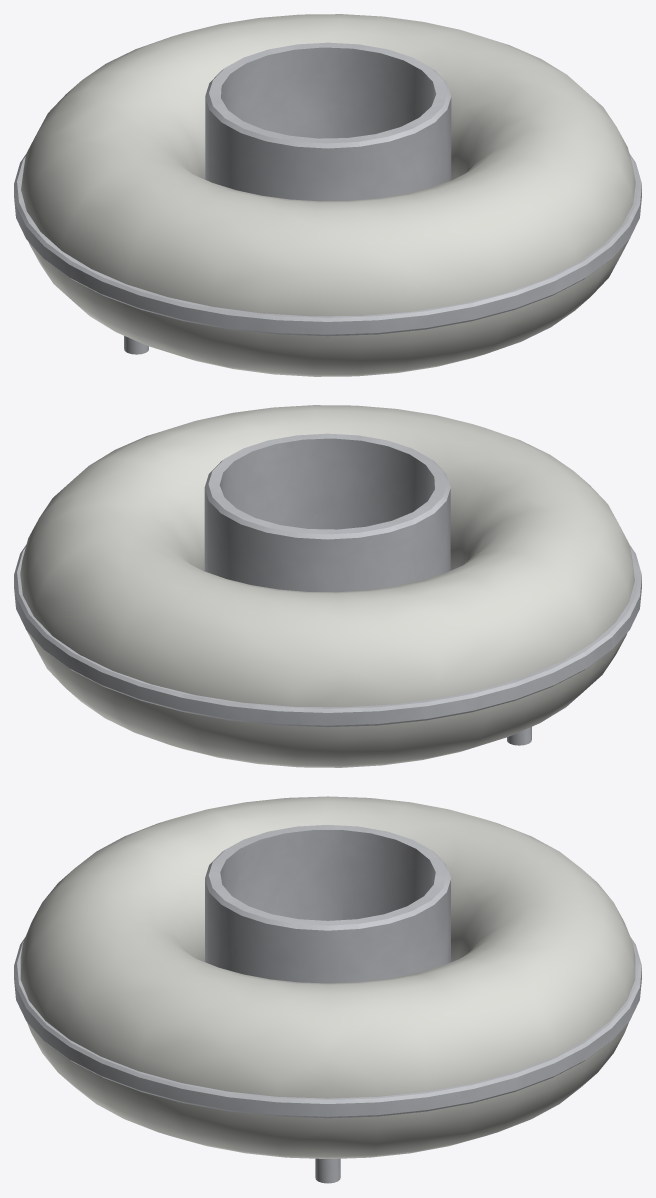
Rendered from ax_tank_08_toroidal_m.glb.
3 views of the same model, one above another, from view 1: azimuth 30°, elevation 25°; view 2: azimuth 150°, elevation 25°; view 3: azimuth 270°, elevation 25° (orthographic).
Parts seen in each view (by area): view 1: torus_tank, inner_ring, girth_ring; view 2: torus_tank, inner_ring, girth_ring; view 3: torus_tank, inner_ring, girth_ring, feed_ports.
Part boxes in pixels (left/top/right/bottom): torus_tank: left=21, top=14, right=635, bottom=376; inner_ring: left=205, top=42, right=451, bottom=201; girth_ring: left=14, top=153, right=641, bottom=336; torus_tank: left=20, top=405, right=634, bottom=767; inner_ring: left=204, top=433, right=450, bottom=592; girth_ring: left=14, top=544, right=641, bottom=727; torus_tank: left=20, top=796, right=635, bottom=1158; inner_ring: left=205, top=825, right=450, bottom=983; girth_ring: left=14, top=937, right=641, bottom=1118; feed_ports: left=315, top=1158, right=340, bottom=1183.
Size of the model in its own units: 2.5 by 0.92 by 2.5.
3 materials, 2 textured.
